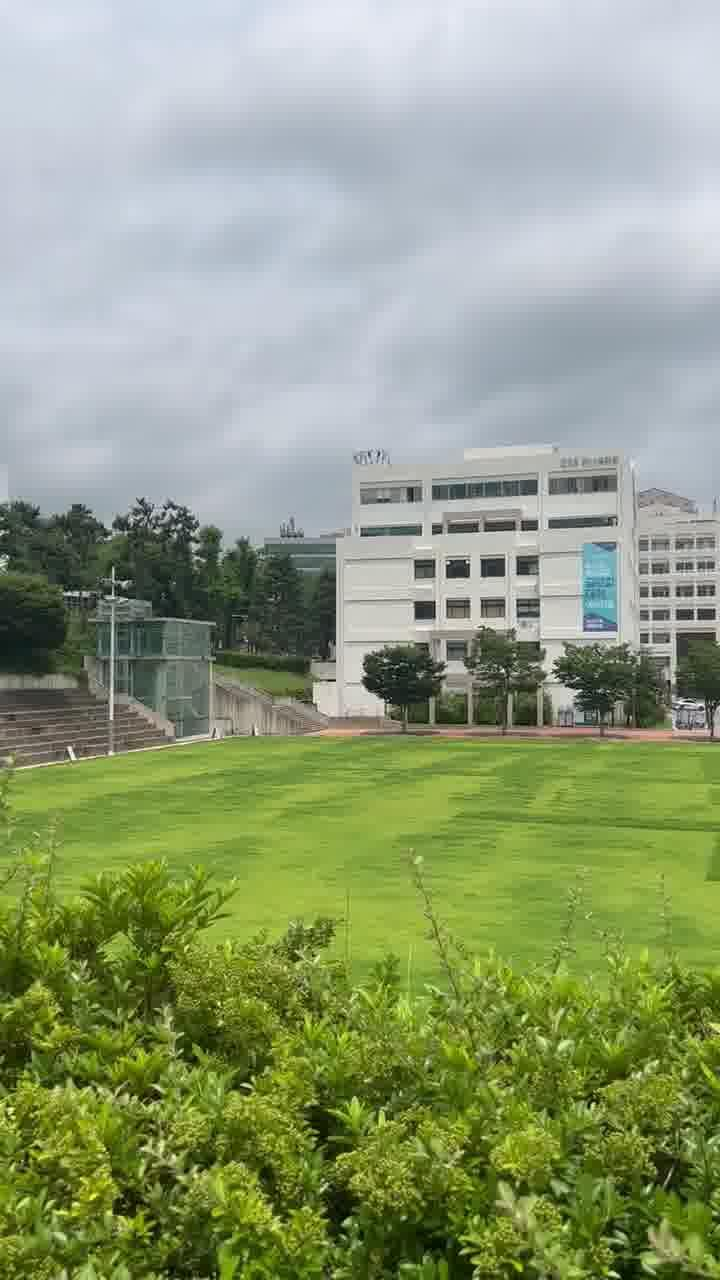building: (330, 454, 638, 642)
